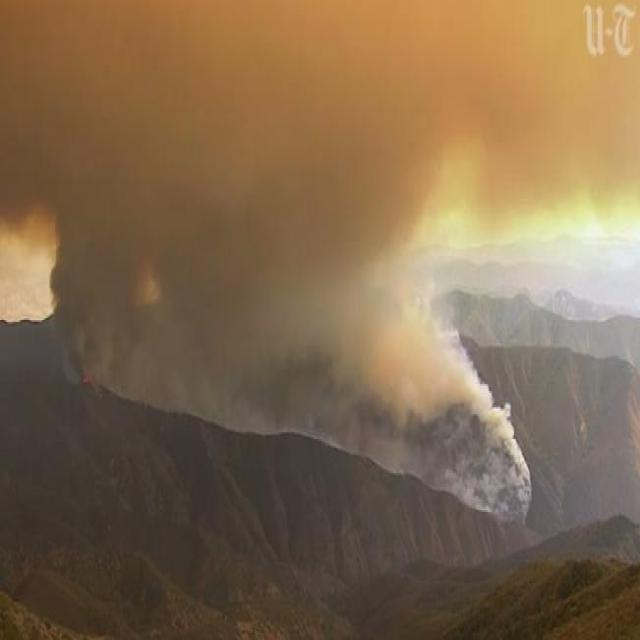Smoke: (0, 0, 636, 236), (39, 243, 540, 530)
